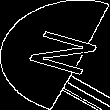N_E: (12, 27, 98, 83)
